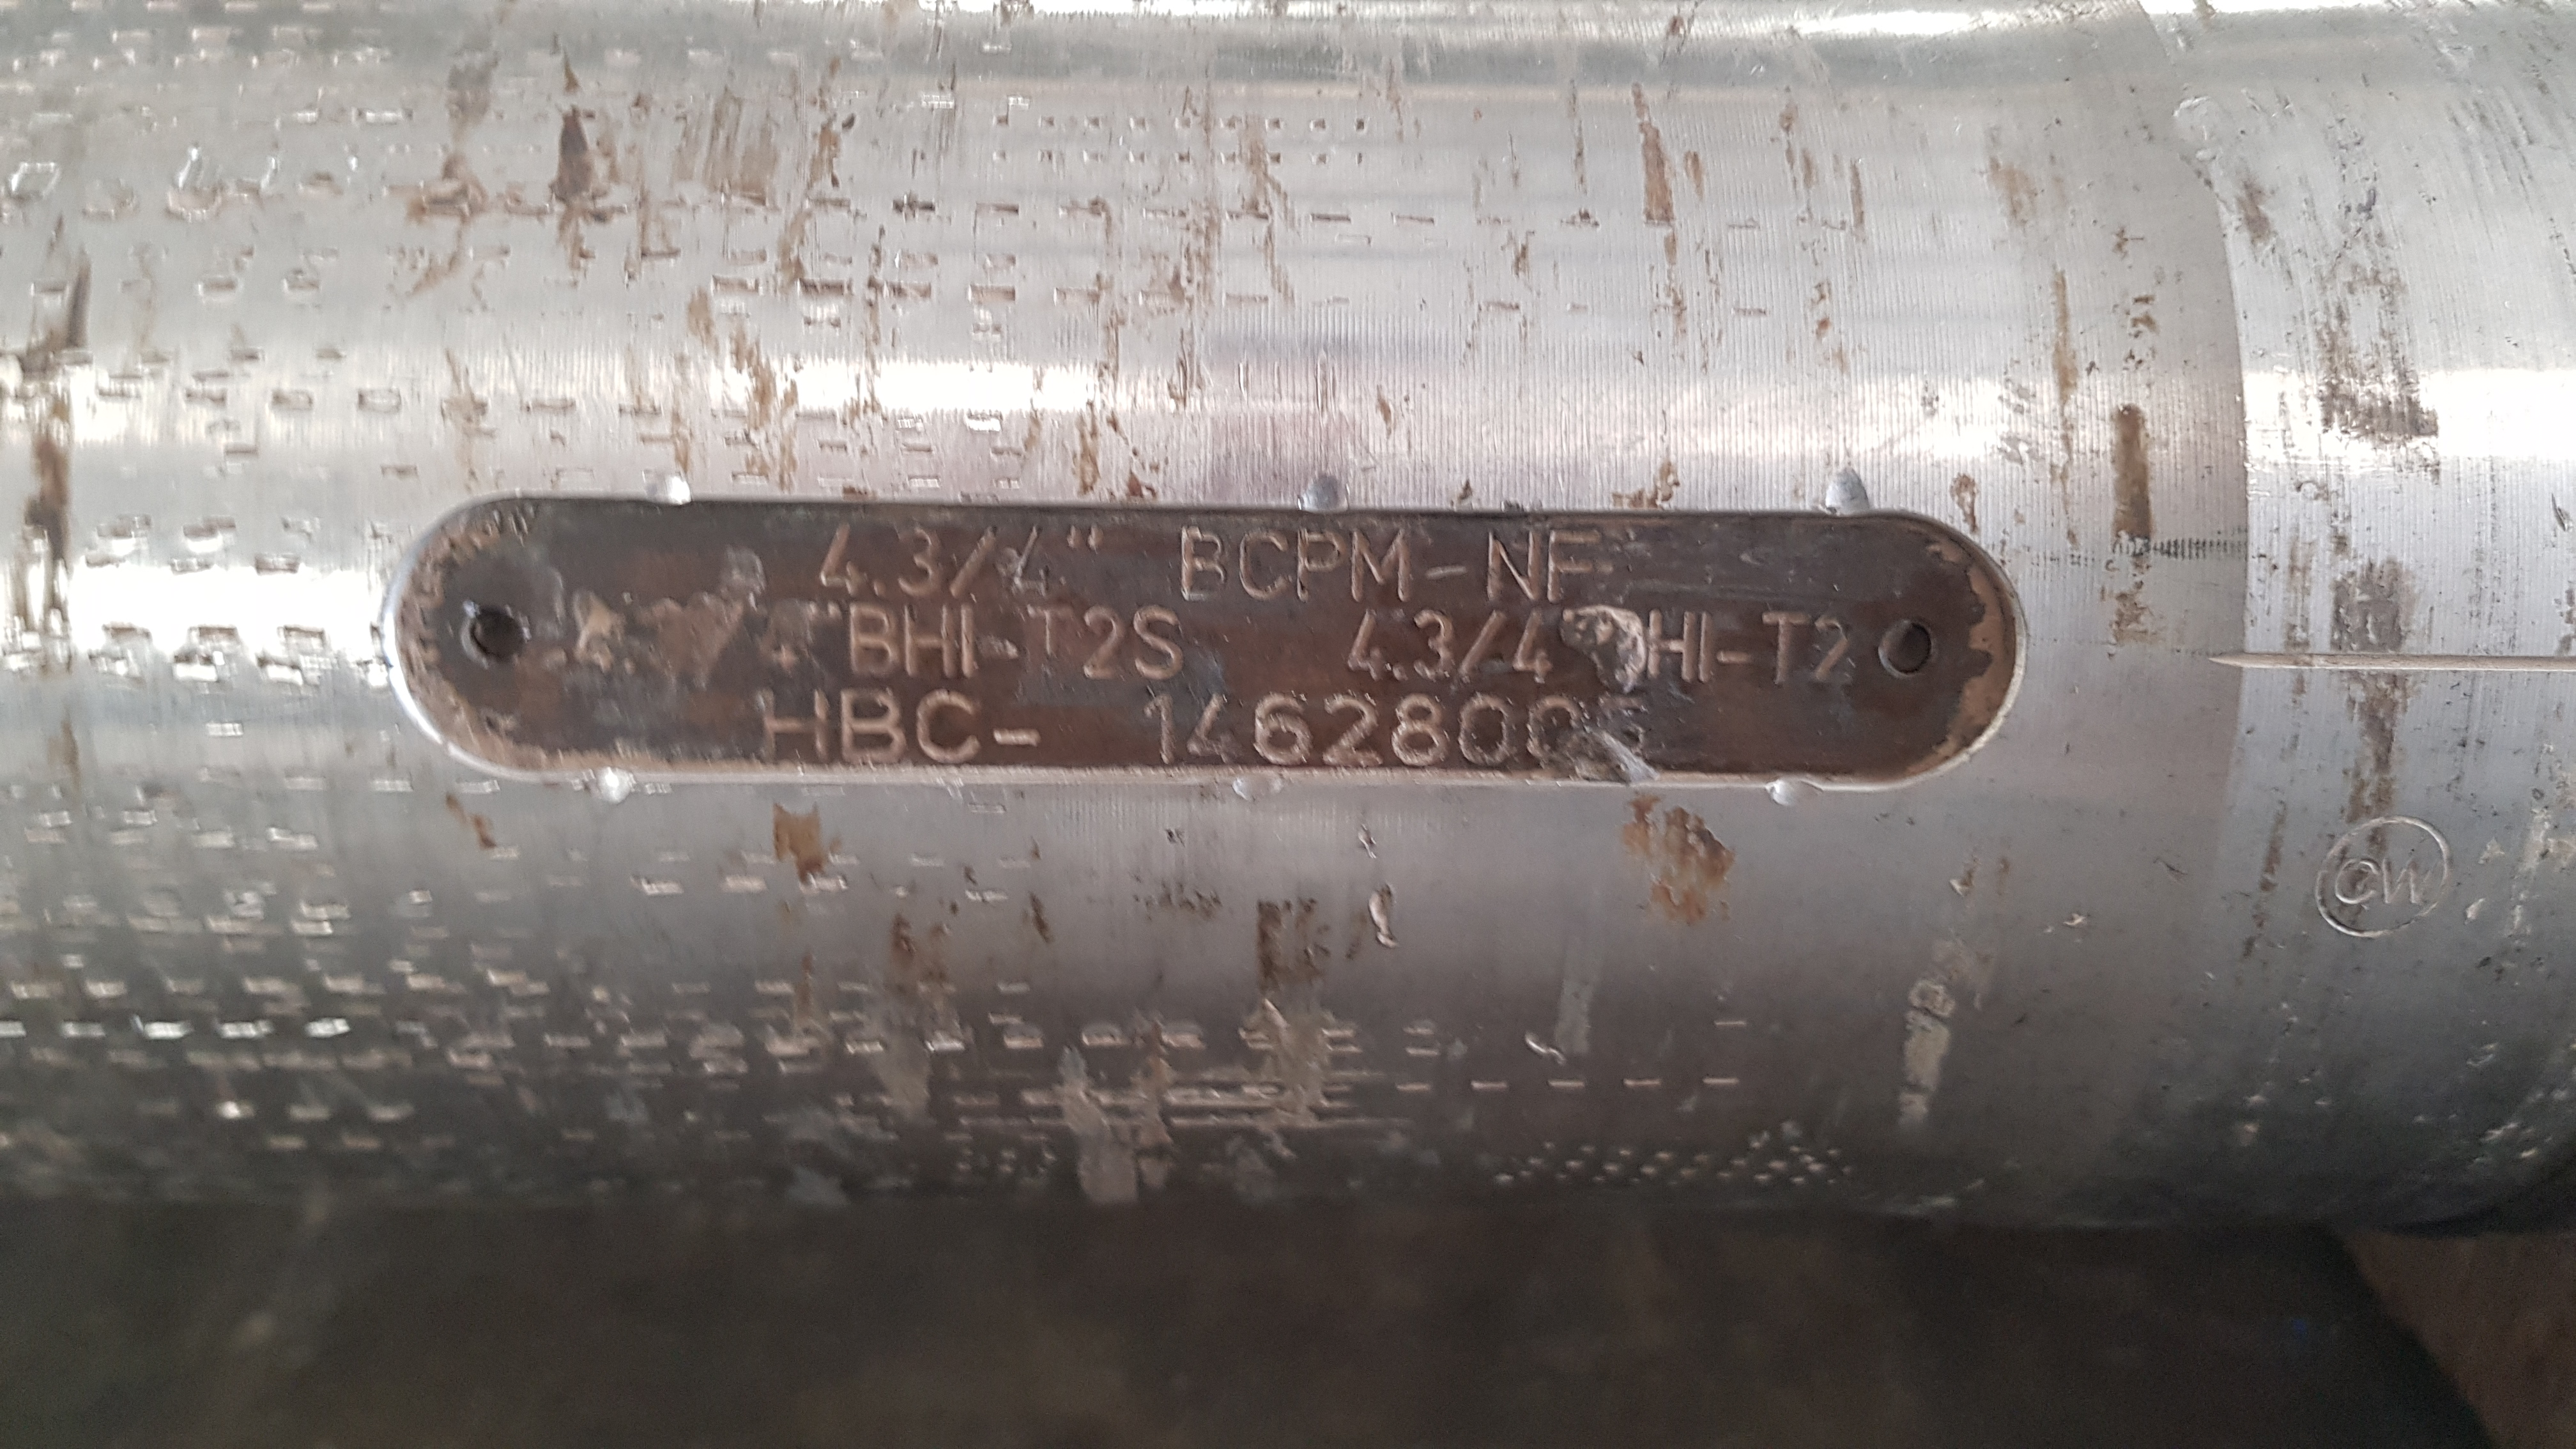character: (748, 685, 835, 764), (1309, 688, 1387, 777), (906, 685, 989, 766), (1345, 522, 1417, 614), (833, 685, 911, 766), (1244, 690, 1318, 773), (1479, 518, 1546, 609), (890, 603, 962, 685), (1171, 513, 1233, 607), (840, 598, 906, 685), (1518, 692, 1587, 773), (1541, 522, 1608, 605), (1454, 690, 1523, 768), (1233, 527, 1295, 612), (1389, 694, 1454, 773), (1292, 525, 1352, 610), (810, 520, 874, 598), (1127, 598, 1187, 679), (1180, 694, 1247, 766), (1596, 686, 1654, 770), (893, 524, 952, 603), (1451, 609, 1509, 688), (1079, 605, 1132, 688), (1010, 522, 1065, 602), (1638, 607, 1695, 681), (1762, 603, 1812, 688), (1343, 609, 1394, 690), (1407, 609, 1458, 688), (1805, 607, 1852, 692), (1511, 607, 1559, 686), (1139, 688, 1185, 766), (952, 600, 989, 686), (1695, 609, 1725, 688)
